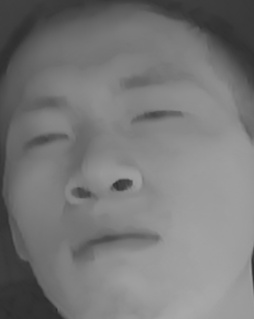eye: (123, 97, 186, 134), (20, 124, 73, 157)
mouth: (67, 218, 164, 271)
